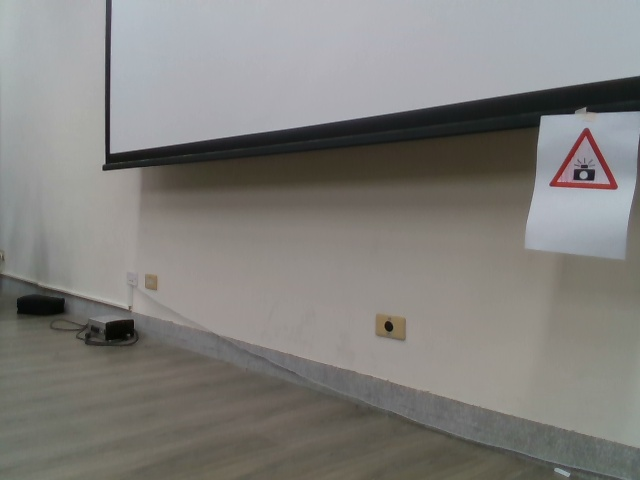camera: (546, 126, 620, 198)
